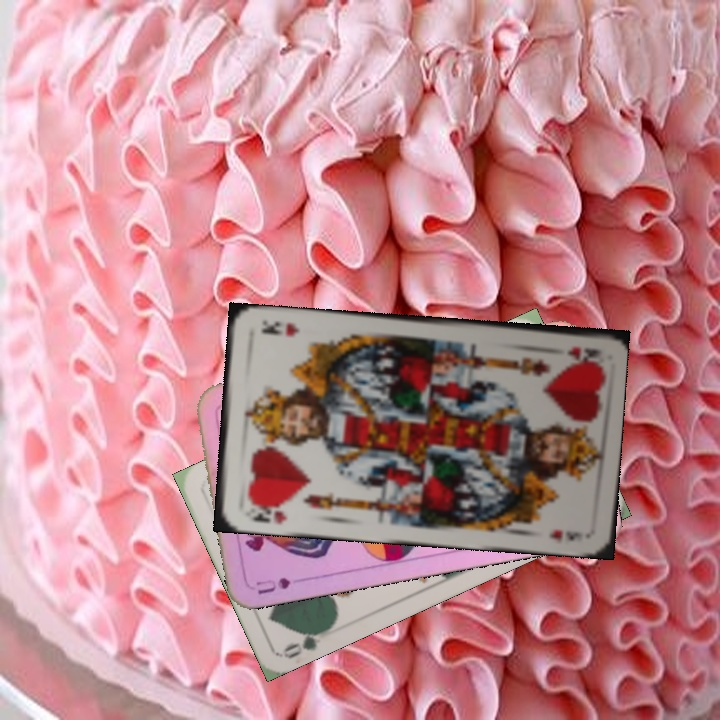GO: (280, 622, 335, 662)
HK: (247, 498, 291, 526), (563, 342, 601, 363)
SU: (252, 573, 310, 597)
